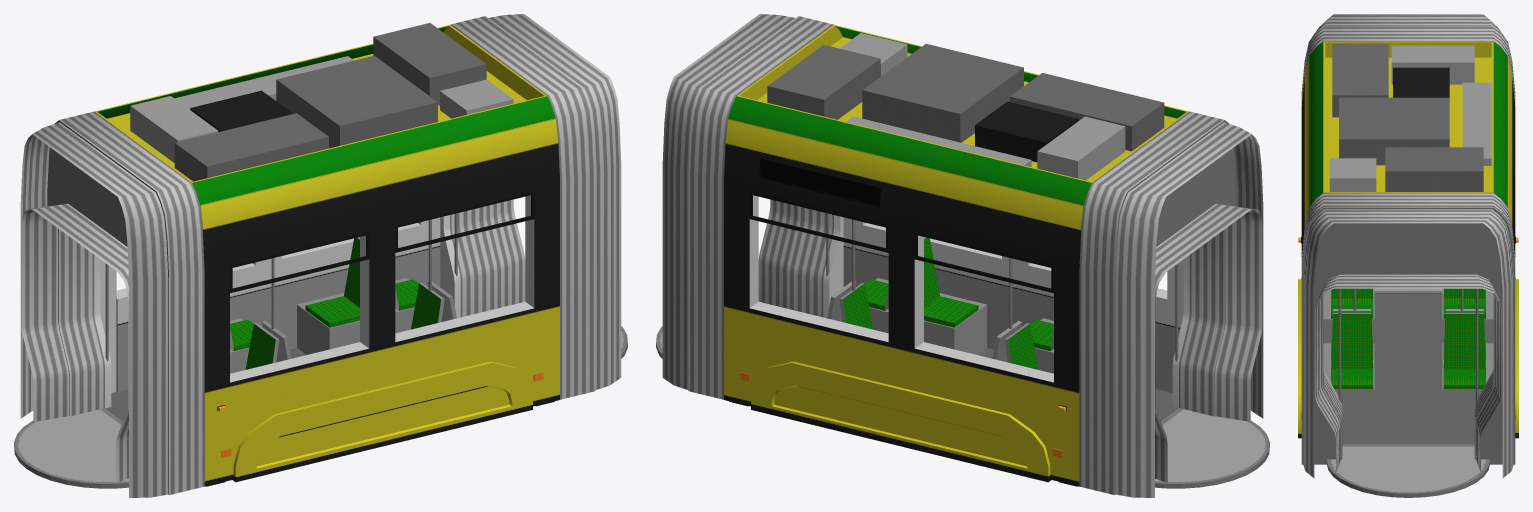
Rendered from t5l64_vag3.obj.
3 views of the same model, side by side, from view 1: azimuth 30°, elevation 25°; view 2: azimuth 150°, elevation 25°; view 3: azimuth 270°, elevation 25° (orthographic). The views are drawn at different scales.
Parts seen in each view (by area): view 1: SHELL, GAR, SHELL_7, GAR_INTERIOR, SHELL_INTERIOR, RING_INTERIOR, SEATS_INTERIOR, SHELL_2_INTERIOR, SHELL_5_INTERIOR, TUR_INTERIOR, WINDOW_4_TOGGLE, WINDOW_2_TOGGLE (+1 smaller); view 2: SHELL, GAR, SHELL_7, GAR_INTERIOR, SHELL_INTERIOR, RING_INTERIOR, SEATS_INTERIOR, SHELL_2_INTERIOR, WIDGET_21_TOGGLE_TL_0.02_Z_CG_ES_NOTOUCH, SHELL_5_INTERIOR, TUR_INTERIOR, WINDOW_3_TOGGLE (+2 smaller); view 3: GAR, SHELL_7, SHELL, SHELL_INTERIOR, RING_INTERIOR, GAR_INTERIOR, SEATS_INTERIOR, SHELL_2_INTERIOR, TUR_INTERIOR, SHELL_5_INTERIOR, SEAT_9_INTERIOR, SEAT_8_INTERIOR (+2 smaller).
Part boxes in pixels (x1,y1,x2,y2): SHELL: (95,25,559,486); GAR: (20,14,621,497); SHELL_7: (130,23,513,181); GAR_INTERIOR: (21,199,525,482); SHELL_INTERIOR: (100,195,534,416); RING_INTERIOR: (14,326,627,488); SEATS_INTERIOR: (230,237,456,369); SHELL_2_INTERIOR: (230,278,414,373); SHELL_5_INTERIOR: (94,215,460,420); TUR_INTERIOR: (105,213,457,361); WINDOW_4_TOGGLE: (395,192,534,251); WINDOW_2_TOGGLE: (230,232,369,292); SHELL: (724,25,1188,486); GAR: (662,14,1263,497); SHELL_7: (767,33,1164,180); GAR_INTERIOR: (758,199,1262,482); SHELL_INTERIOR: (749,195,1183,416); RING_INTERIOR: (656,326,1269,488); SEATS_INTERIOR: (827,237,1053,369); SHELL_2_INTERIOR: (869,278,1053,373); WIDGET_21_TOGGLE_TL_0.02_Z_CG_ES_NOTOUCH: (761,159,880,205); SHELL_5_INTERIOR: (823,215,1189,420); TUR_INTERIOR: (826,213,1178,361); WINDOW_3_TOGGLE: (749,192,888,251); GAR: (1301,14,1515,477); SHELL_7: (1329,43,1491,191); SHELL: (1298,41,1518,438); SHELL_INTERIOR: (1342,296,1474,441); RING_INTERIOR: (1326,288,1490,497); GAR_INTERIOR: (1315,274,1501,472); SEATS_INTERIOR: (1331,288,1485,389); SHELL_2_INTERIOR: (1323,288,1493,427); TUR_INTERIOR: (1338,288,1478,403); SHELL_5_INTERIOR: (1323,293,1493,444); SEAT_9_INTERIOR: (1443,369,1485,385); SEAT_8_INTERIOR: (1331,369,1373,385).
Size of the model in its own units: 6.6 by 3.53 by 2.46.
7 materials, 6 textured.
